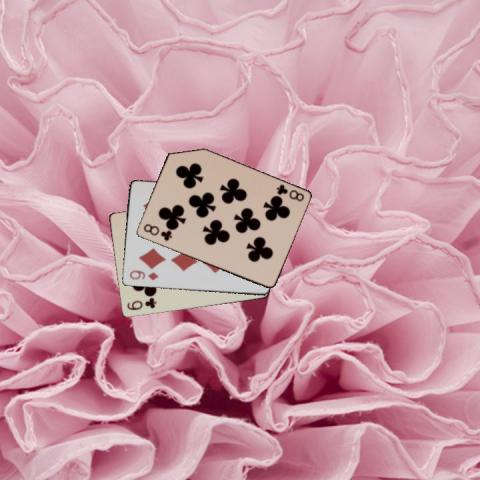6c: (124, 296, 157, 311)
8c: (140, 221, 173, 243), (274, 181, 306, 203)
9d: (127, 268, 159, 281)
